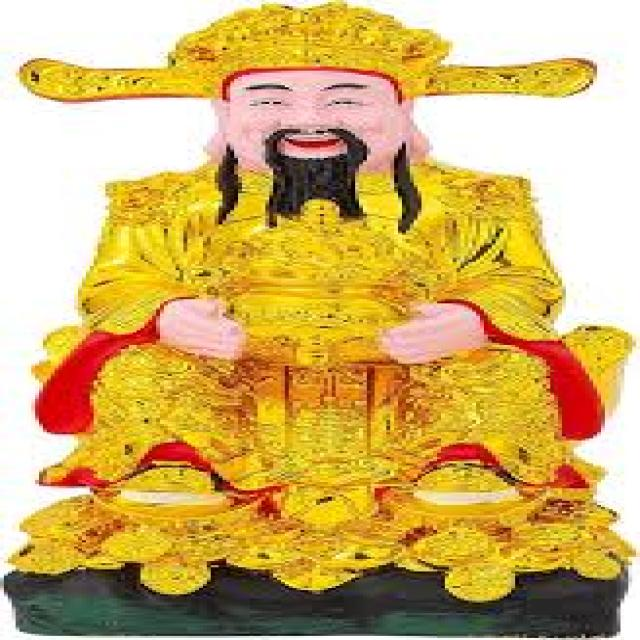Cai shen: (6, 2, 639, 611)
